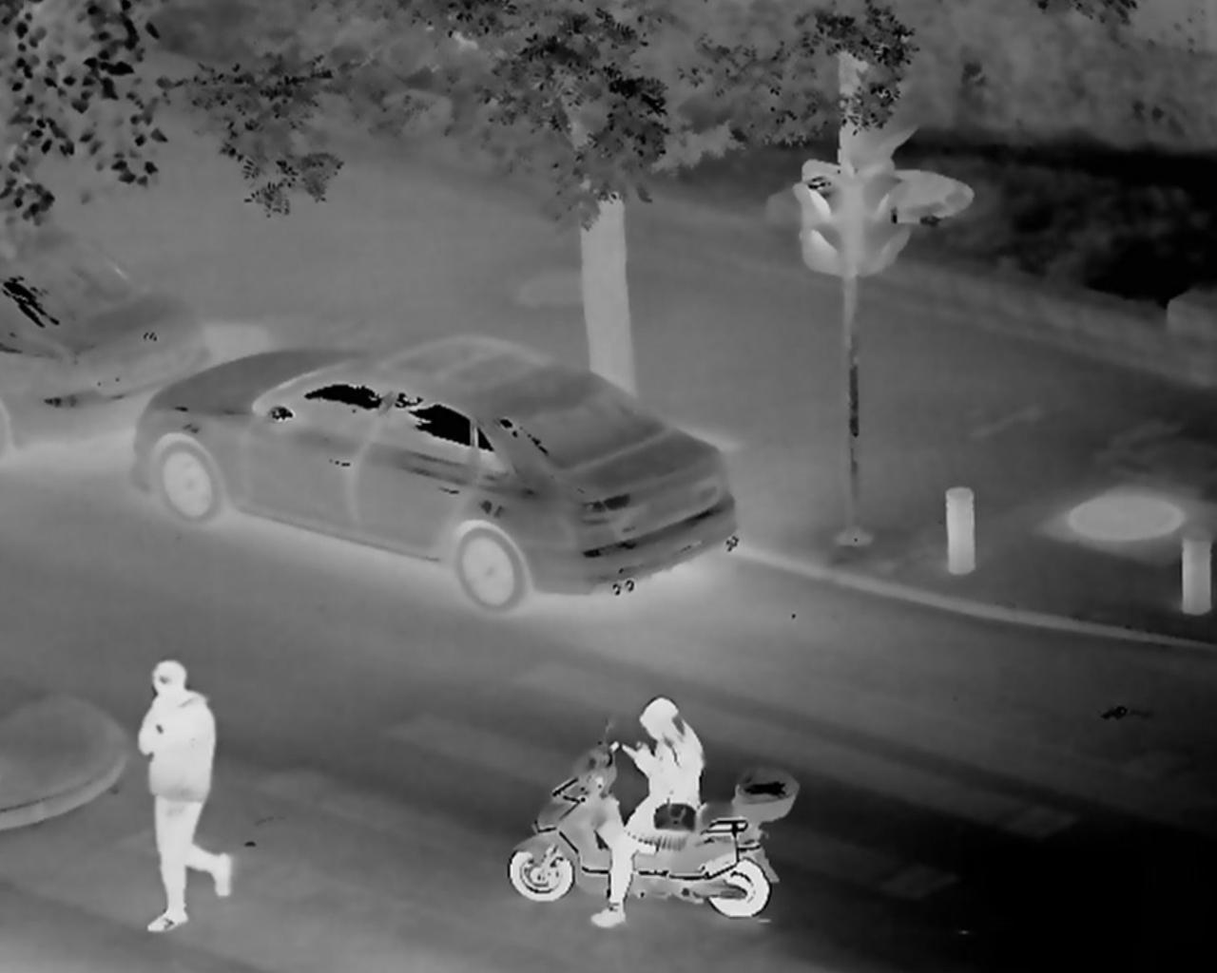person: (128, 659, 237, 937), (603, 691, 714, 930)
